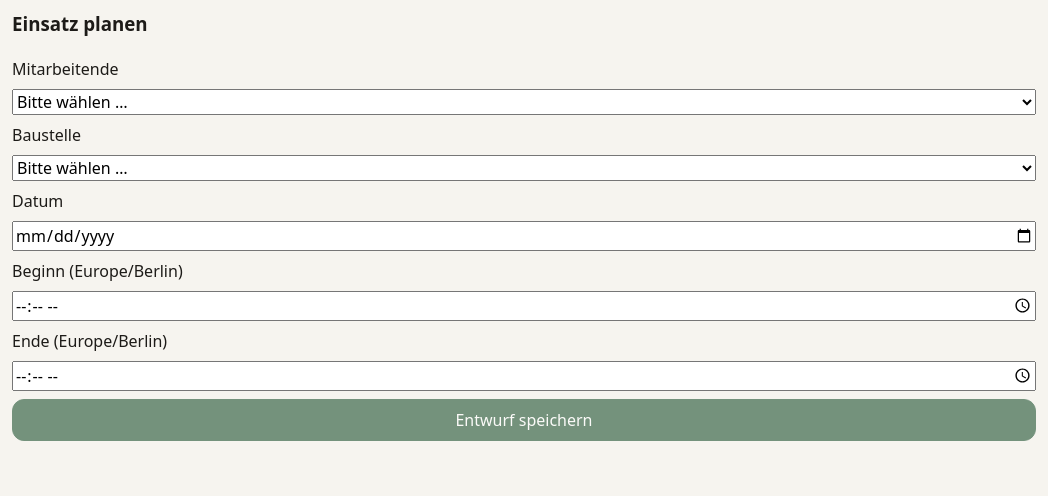
Test: AssignmentForm — vollstaendige Eingabe › zeigt den Serverbefund, wenn das Speichern scheitert
Select "Anna Berg" in the dropdown with test id "feld-employee" at (524, 102), box [12,88,1036,114]
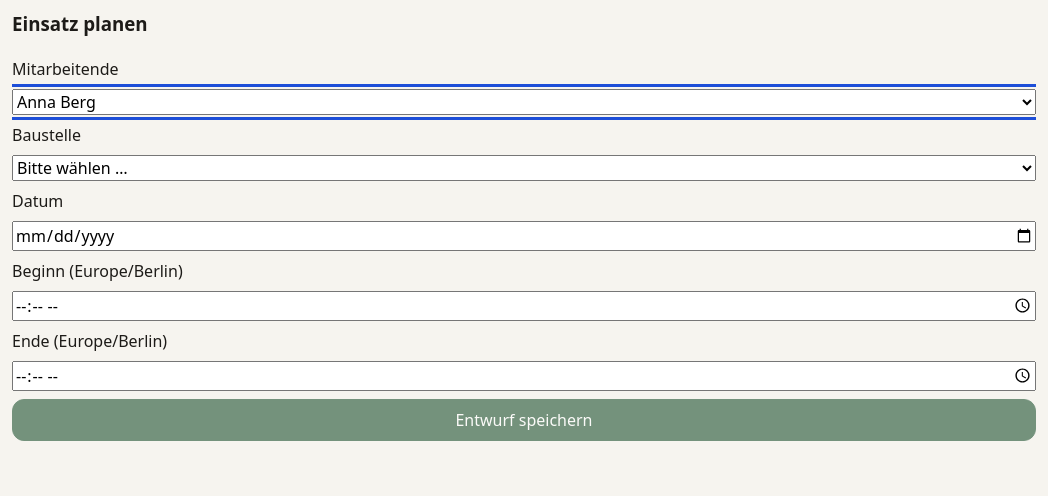
Select "Baustelle Nord" in the dropdown with test id "feld-worksite" at (524, 168), box [12,154,1036,180]
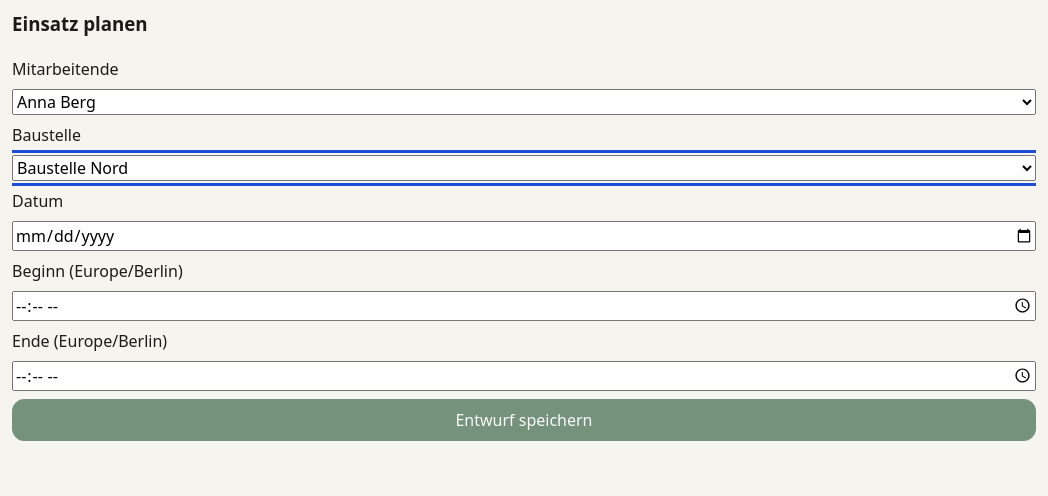
Type "2026-08-03" into the date field with test id "feld-datum" at (524, 236), box [12,220,1036,250]
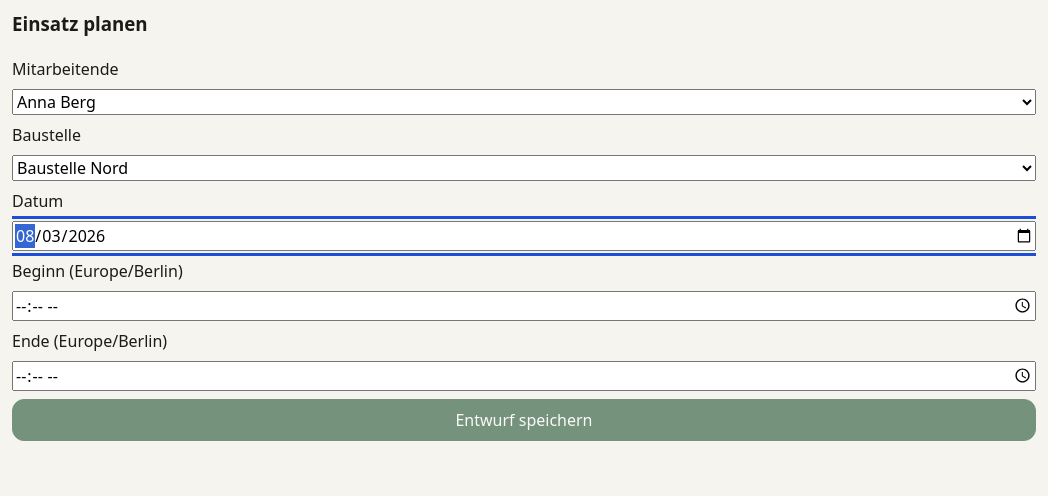
Type "08:00" into the time field with test id "feld-beginn" at (524, 306), box [12,290,1036,320]
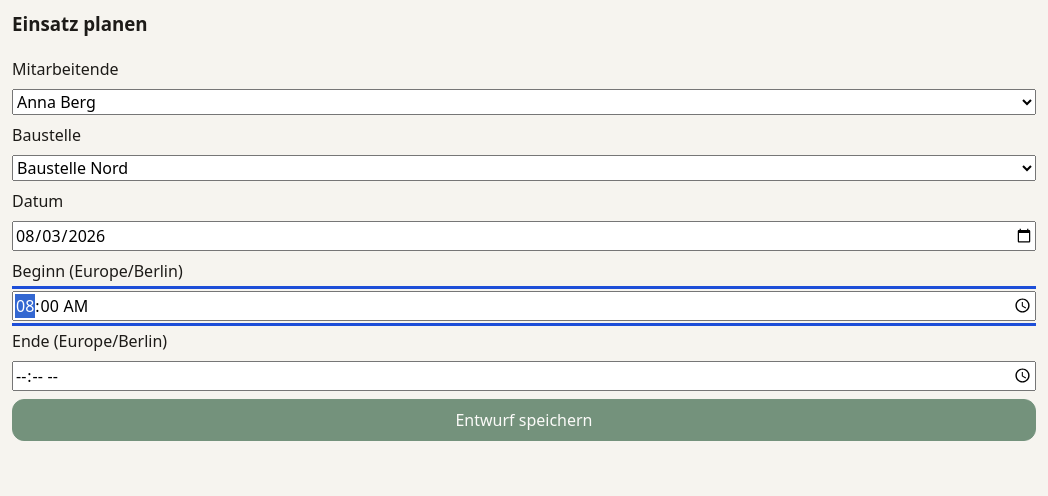
Type "16:00" into the time field with test id "feld-ende" at (524, 376), box [12,360,1036,390]
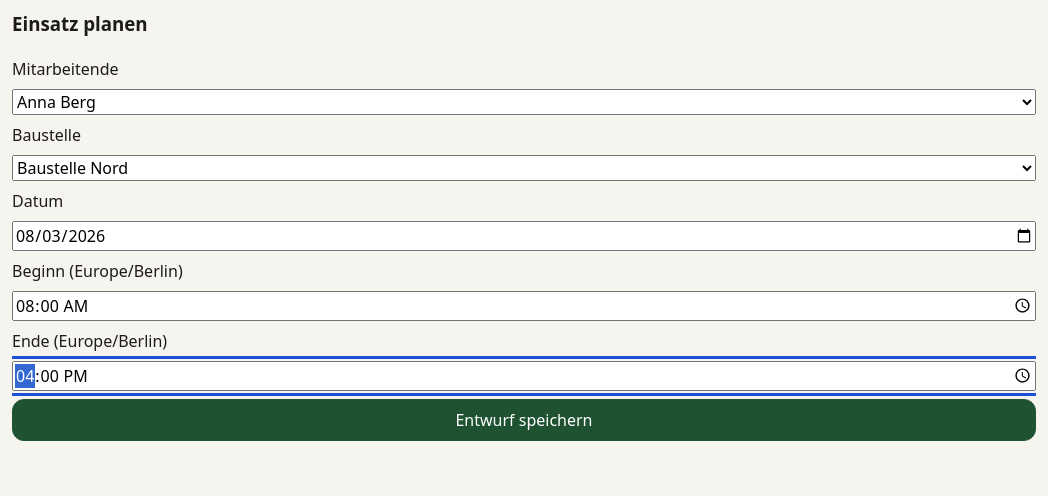
Click the button with test id "einsatz-speichern" at (524, 420), box [12,398,1036,440]
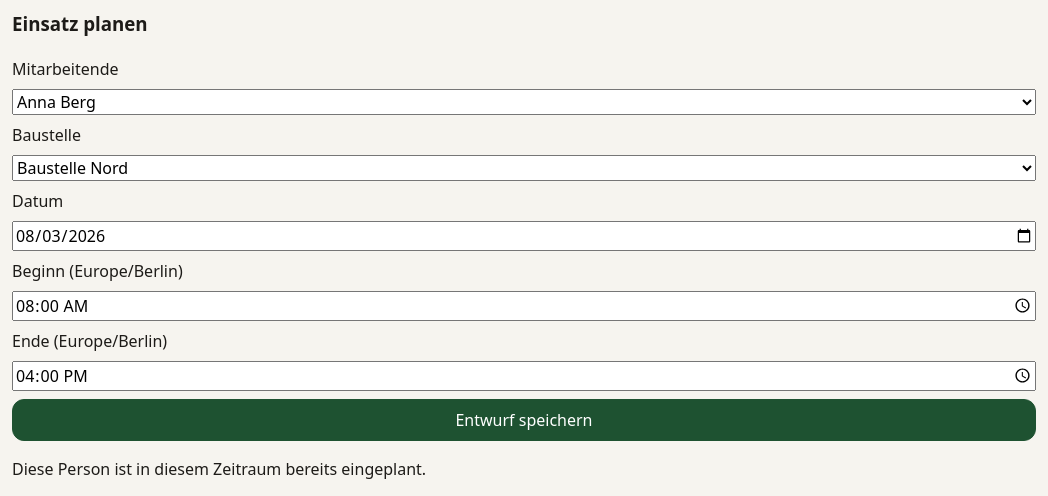
Expected: the message with test id "einsatzformular-meldung" shows "bereits eingeplant", [12,458,426,480]
